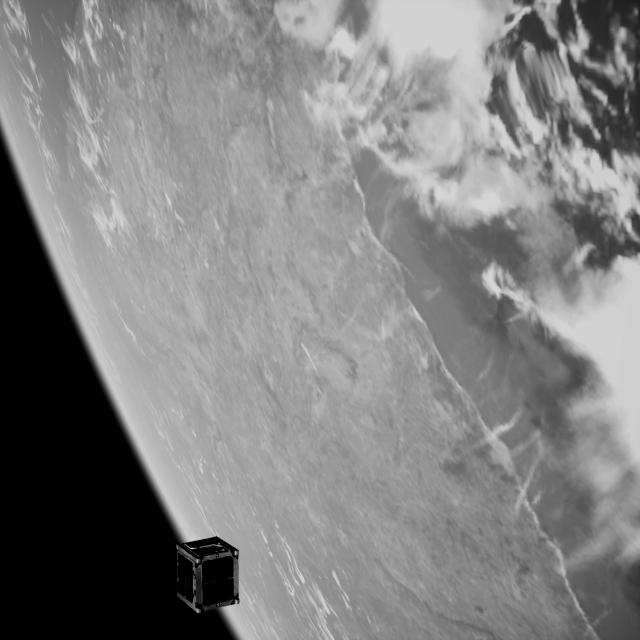satellite: (167, 533, 244, 609)
